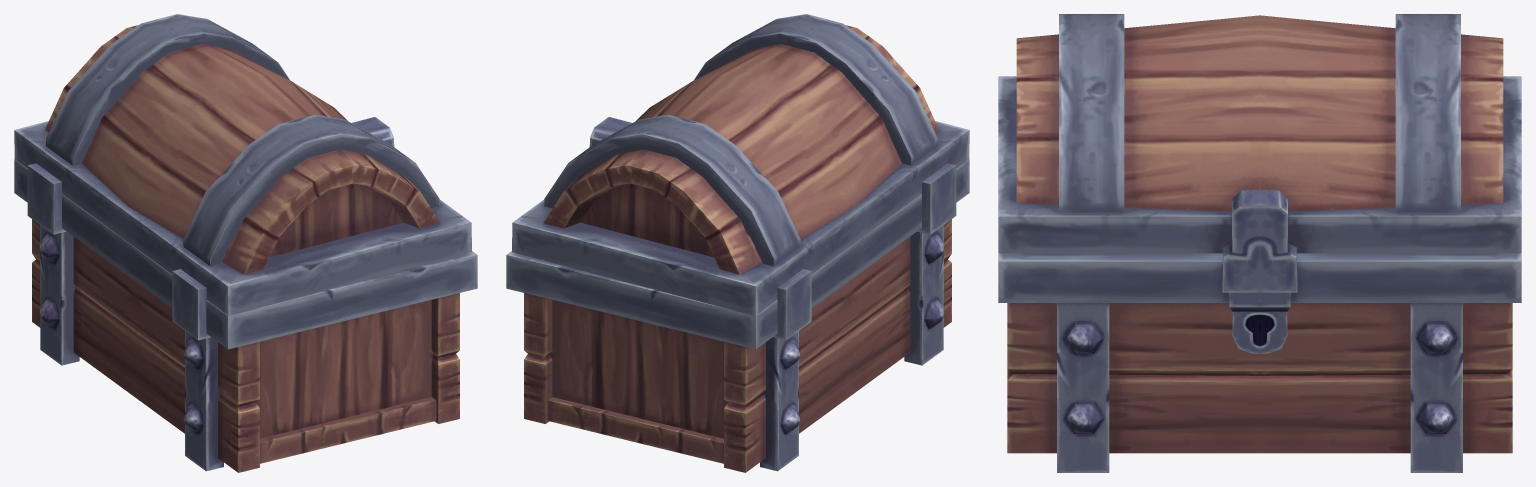
Rendered from treasure-closed-v03.glb.
The picture shows the model from 3 angles, left to right: view 1: azimuth 30°, elevation 25°; view 2: azimuth 150°, elevation 25°; view 3: azimuth 270°, elevation 25°; orthographic projection. The views are drawn at different scales.
Parts seen in each view (by area): view 1: Chest_bottom_Material_0; view 2: Chest_bottom_Material_0; view 3: Chest_bottom_Material_0.
Part boxes in pixels (left/top/right/bottom): Chest_bottom_Material_0: left=14, top=14, right=477, bottom=472; Chest_bottom_Material_0: left=506, top=14, right=969, bottom=472; Chest_bottom_Material_0: left=998, top=14, right=1521, bottom=472.
Bounding box in the file's own units: 262 × 280 × 357.
Materials: 1 (1 with a texture image).
